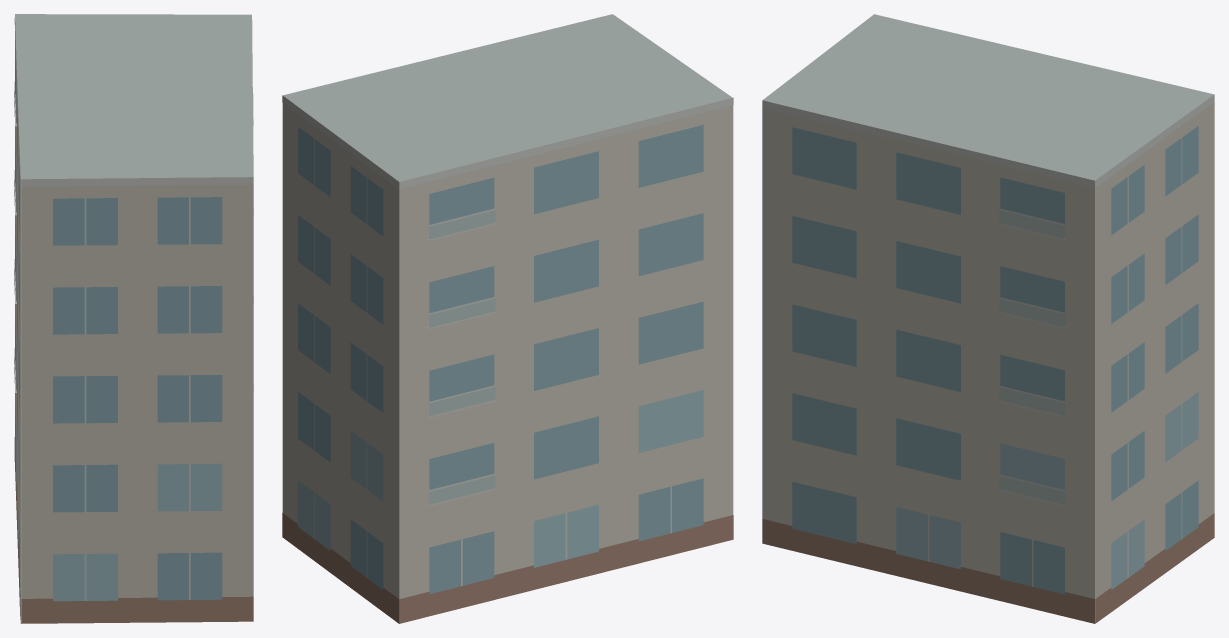
The model's file is survey-upis-32835378.glb.
3 renders of one model, left to right at view 1: azimuth 30°, elevation 25°; view 2: azimuth 150°, elevation 25°; view 3: azimuth 270°, elevation 25°, orthographic.
Parts seen in each view (by area): view 1: survey-upis-32835378.tmp; view 2: survey-upis-32835378.tmp; view 3: survey-upis-32835378.tmp.
Part boxes in pixels (x1,y1,x2,y2): survey-upis-32835378.tmp: [14, 14, 253, 623]; survey-upis-32835378.tmp: [282, 14, 733, 623]; survey-upis-32835378.tmp: [762, 14, 1214, 623].
Size of the model in its own units: 11.86 by 14.7 by 13.6.
